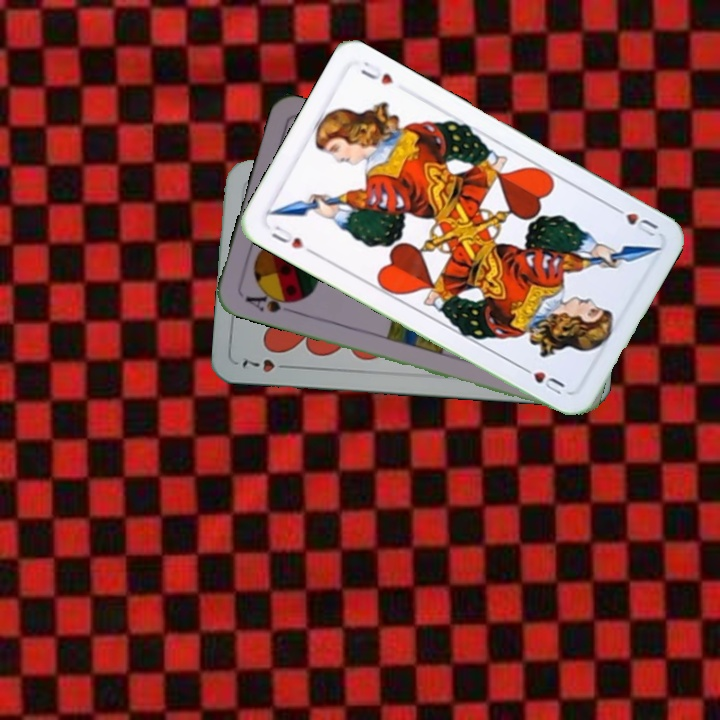H7: (238, 355, 295, 375)
HU: (607, 201, 661, 240), (267, 221, 317, 257)
SA: (241, 286, 300, 316)
